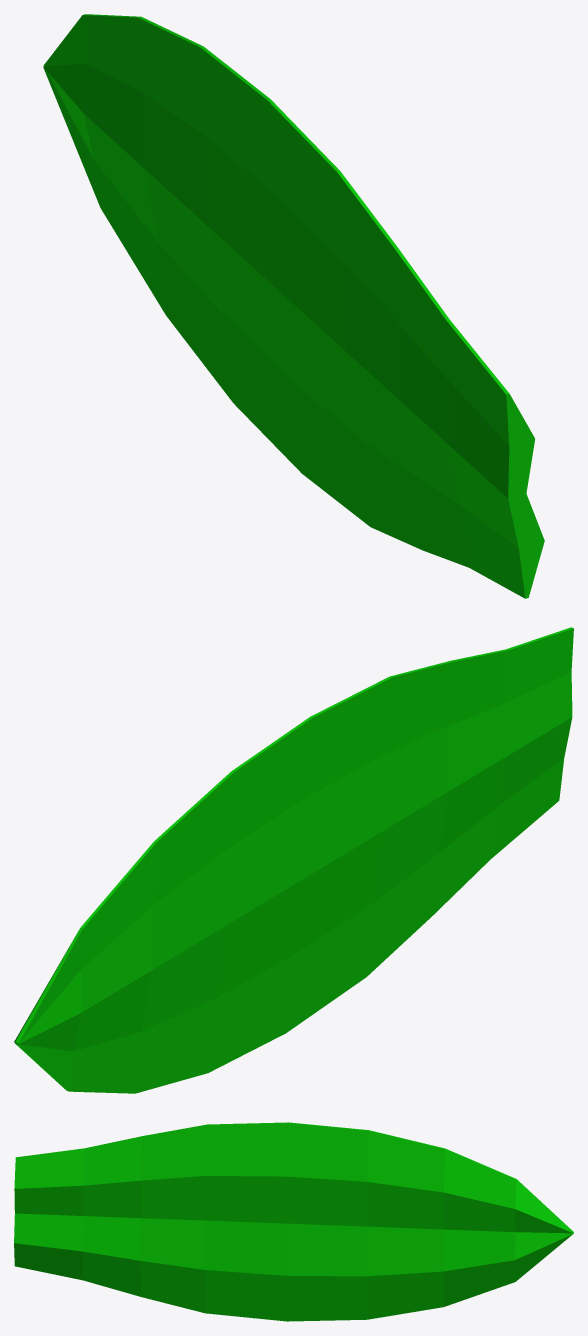
Rendered from SonenBlumneblatt.obj.
3 views of the same model, one above another, from view 1: azimuth 30°, elevation 25°; view 2: azimuth 150°, elevation 25°; view 3: azimuth 270°, elevation 25° (orthographic). The views are drawn at different scales.
Parts seen in each view (by area): view 1: Würfel; view 2: Würfel; view 3: Würfel.
Boxes of the visible parts, box(x1,y1,x2,y2) form: Würfel: box(43, 14, 544, 598); Würfel: box(14, 627, 573, 1093); Würfel: box(14, 1122, 573, 1321).
Size of the model in its own units: 0.1688 by 0.5442 by 1.45.
